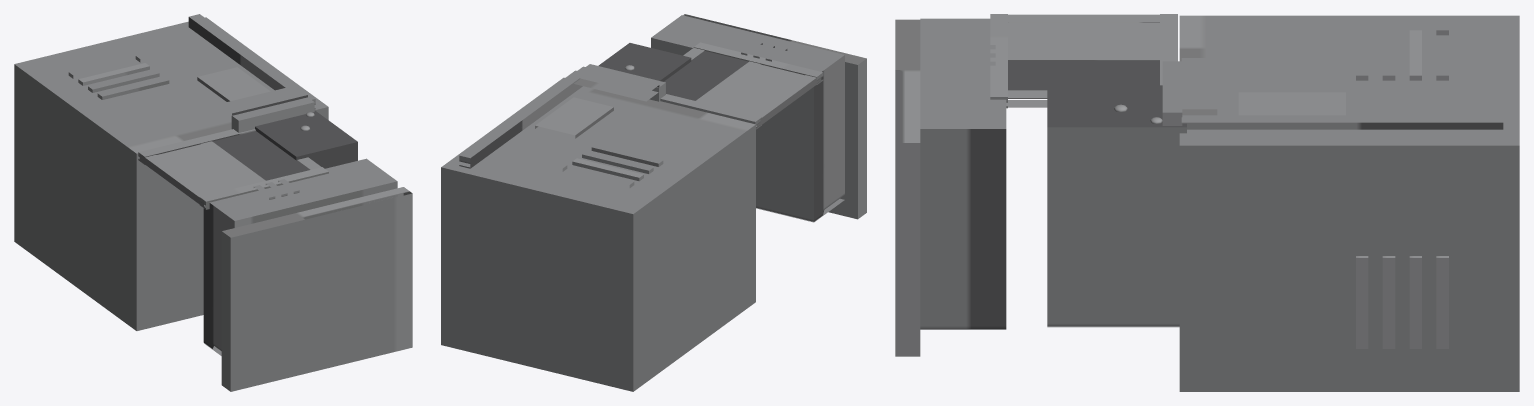
3 renders of one model, left to right at view 1: azimuth 30°, elevation 25°; view 2: azimuth 150°, elevation 25°; view 3: azimuth 270°, elevation 25°, orthographic. The views are drawn at different scales.
Bounding box in the file's own units: 0.9124 × 0.83 × 1.75.
